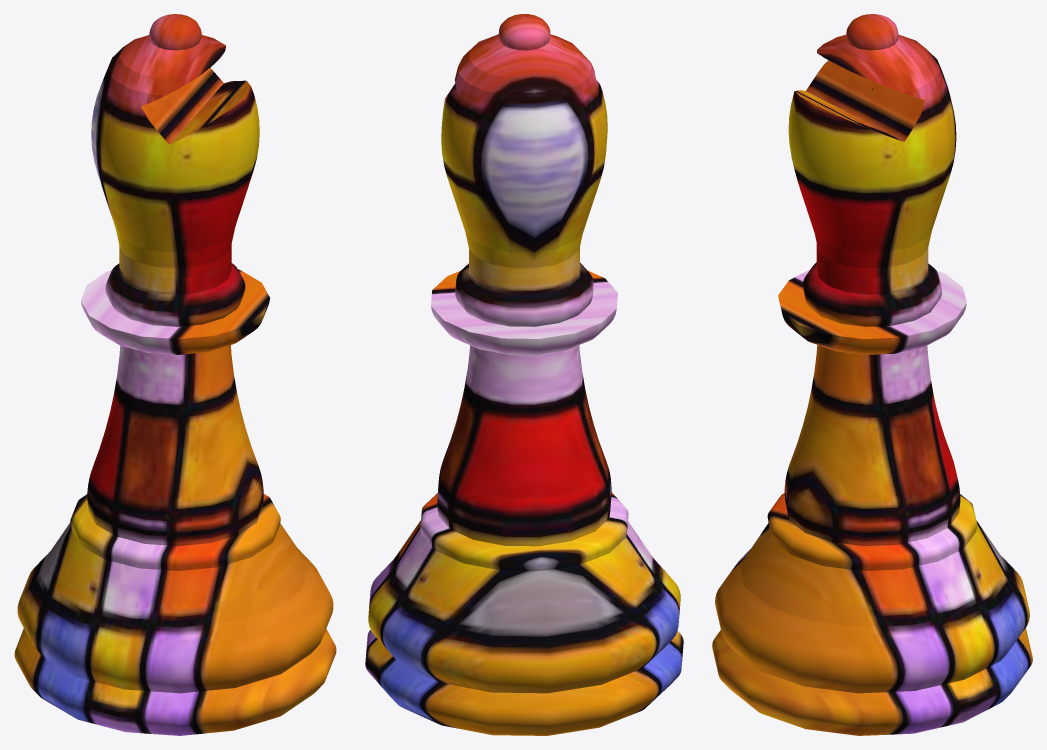
The picture shows the model from 3 angles, left to right: view 1: azimuth 30°, elevation 25°; view 2: azimuth 150°, elevation 25°; view 3: azimuth 270°, elevation 25°; orthographic projection.
Visible parts, largest first — view 1: Dishops; view 2: Dishops; view 3: Dishops.
Part boxes in pixels (bbox=[...]): Dishops: bbox=[14, 14, 336, 735]; Dishops: bbox=[365, 14, 683, 735]; Dishops: bbox=[712, 14, 1032, 735].
Bounding box in the file's own units: 48.41 × 110 × 48.41.
